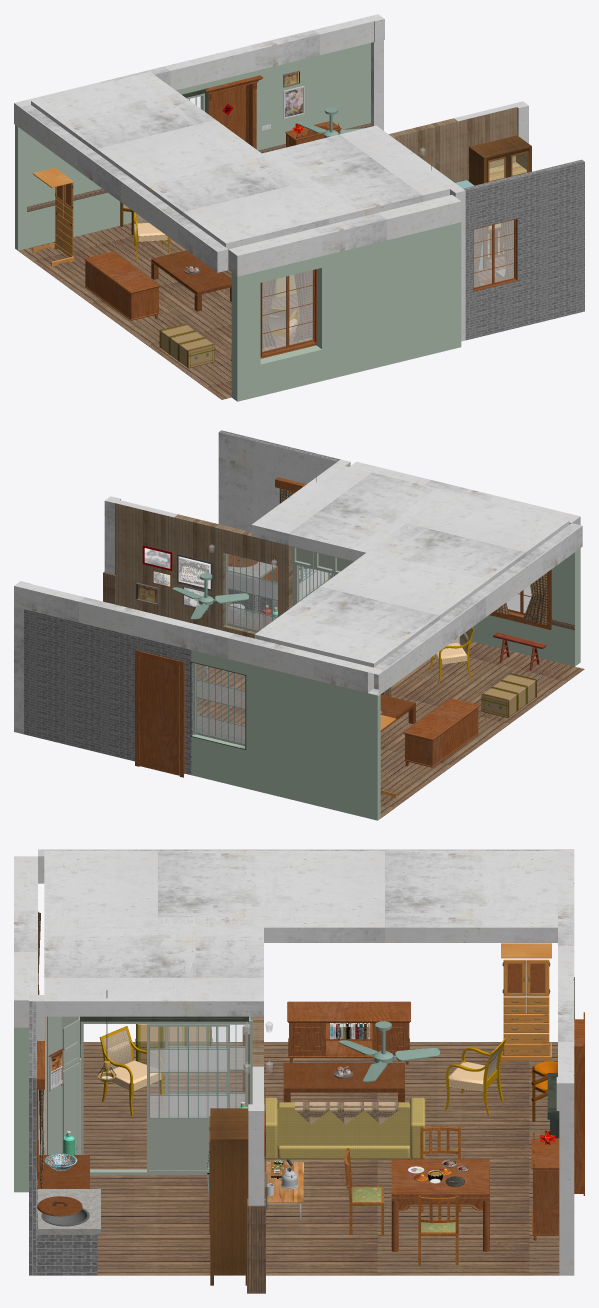
File: room-su-core.glb
3 renders of one model, top to bottom at view 1: azimuth 30°, elevation 25°; view 2: azimuth 150°, elevation 25°; view 3: azimuth 270°, elevation 25°, orthographic. The views are drawn at different scales.
Visible parts, largest first — view 1: Geom3D (×21), Geom3D_ (×8); view 2: Geom3D (×23), Geom3D_ (×8), Assembly-1245; view 3: Geom3D (×40), Geom3D_ (×8).
Boxes of the visible parts, bbox=[...] form: Geom3D (×21): bbox=[14, 14, 584, 401]; Geom3D_ (×8): bbox=[84, 85, 513, 358]; Geom3D (×23): bbox=[14, 432, 584, 820]; Geom3D_ (×8): bbox=[135, 569, 551, 777]; Assembly-1245: bbox=[144, 548, 210, 609]; Geom3D (×40): bbox=[14, 849, 574, 1293]; Geom3D_ (×8): bbox=[36, 1001, 583, 1275].
Bounding box in the file's own units: 7.89 × 3 × 7.54.
Materials: 172 (98 with a texture image).
